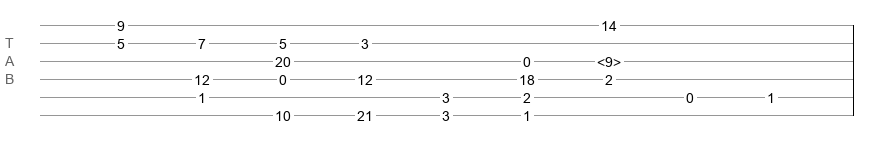0: (279, 72, 287, 82), (523, 54, 531, 64), (686, 90, 694, 100)
1: (198, 90, 206, 100), (523, 108, 531, 118), (767, 90, 775, 100)
10: (275, 108, 291, 118)
12: (194, 72, 210, 82), (357, 72, 373, 82)
14: (601, 18, 617, 28)
18: (519, 72, 535, 82)
2: (523, 90, 531, 100), (605, 72, 613, 82)
20: (275, 54, 291, 64)
21: (357, 108, 373, 118)
3: (361, 36, 369, 46), (442, 108, 450, 118), (442, 90, 450, 100)
5: (117, 36, 125, 46), (279, 36, 287, 46)
7: (198, 36, 206, 46)
9: (117, 18, 125, 28)
harmonic: (597, 54, 621, 64)
